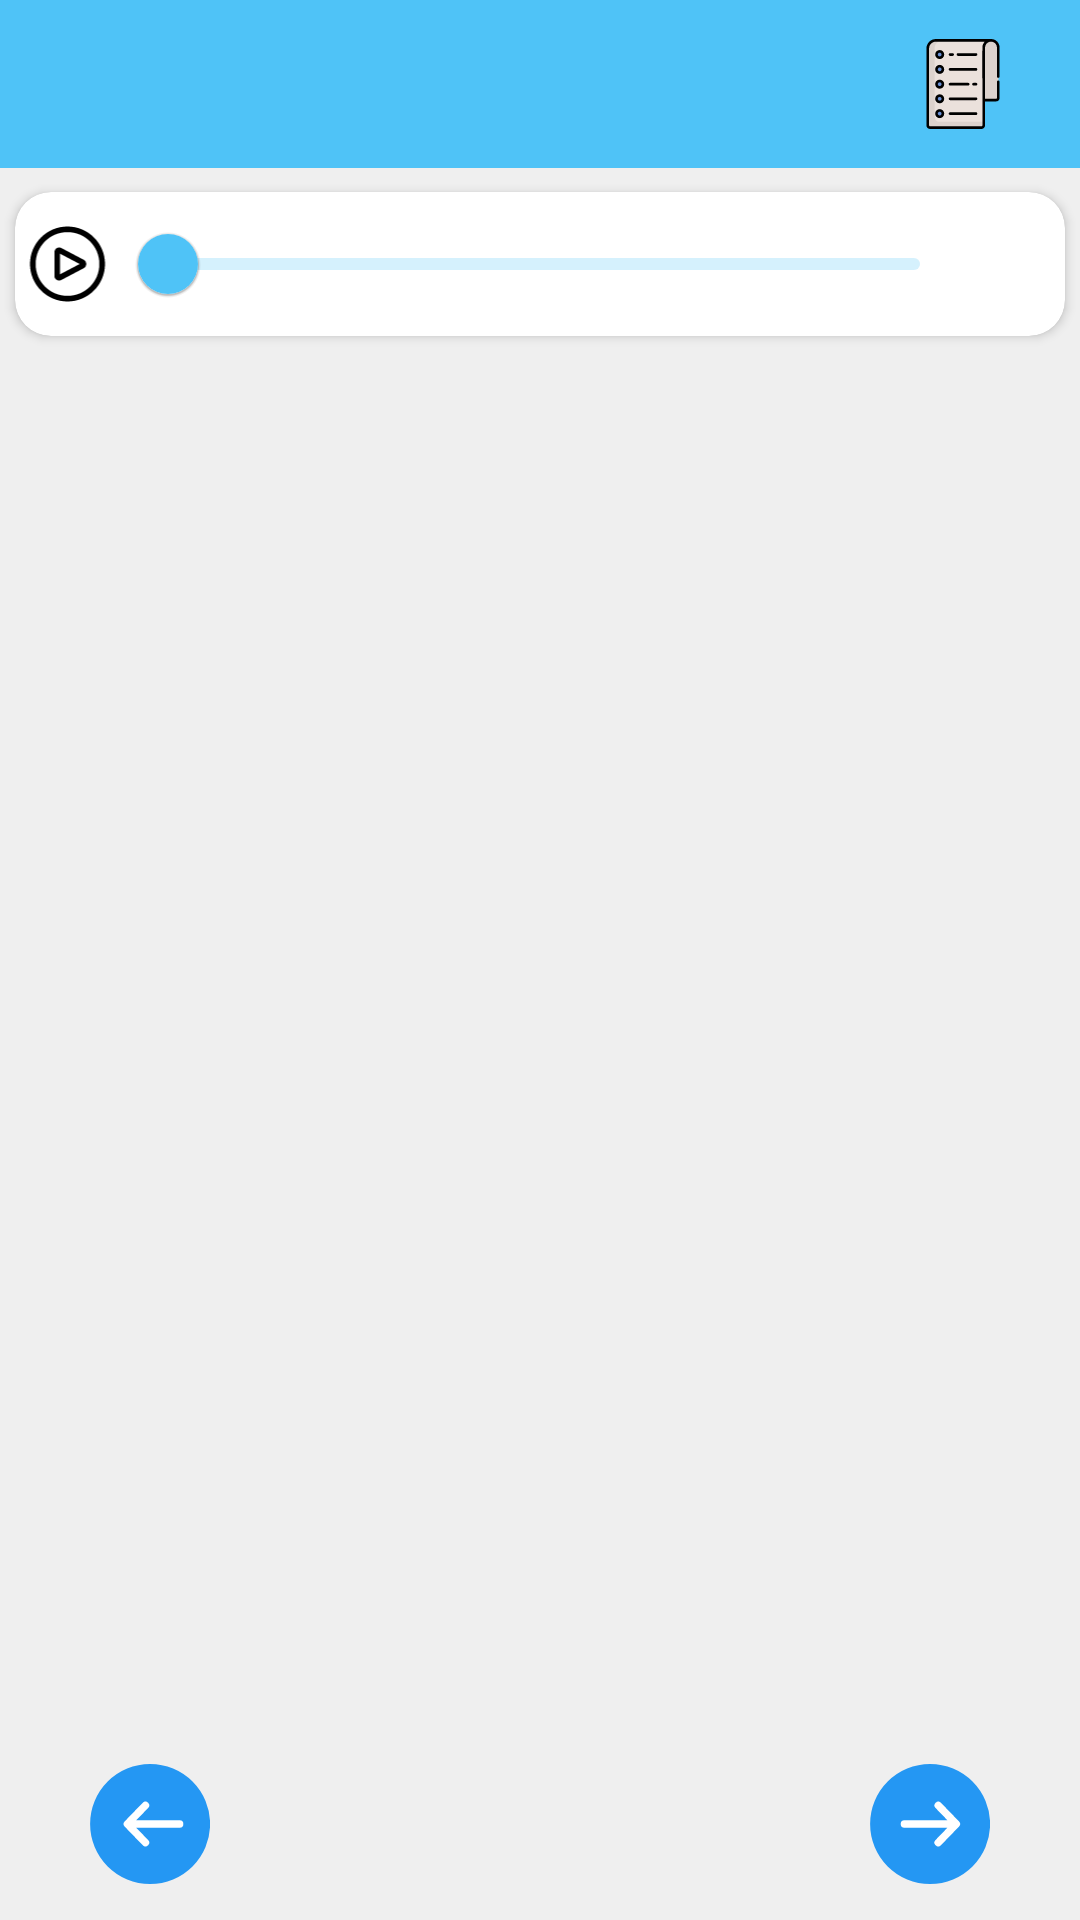

Icons on this 1080w x 1920h Android screen, each with its box as [x1=x1, y1=y1, x2=x2, y2=y2]:
list: [x1=926, y1=39, x2=1000, y2=129]
next: [x1=870, y1=1764, x2=990, y2=1884]
play: [x1=29, y1=226, x2=106, y2=302]
previous: [x1=90, y1=1764, x2=210, y2=1884]
